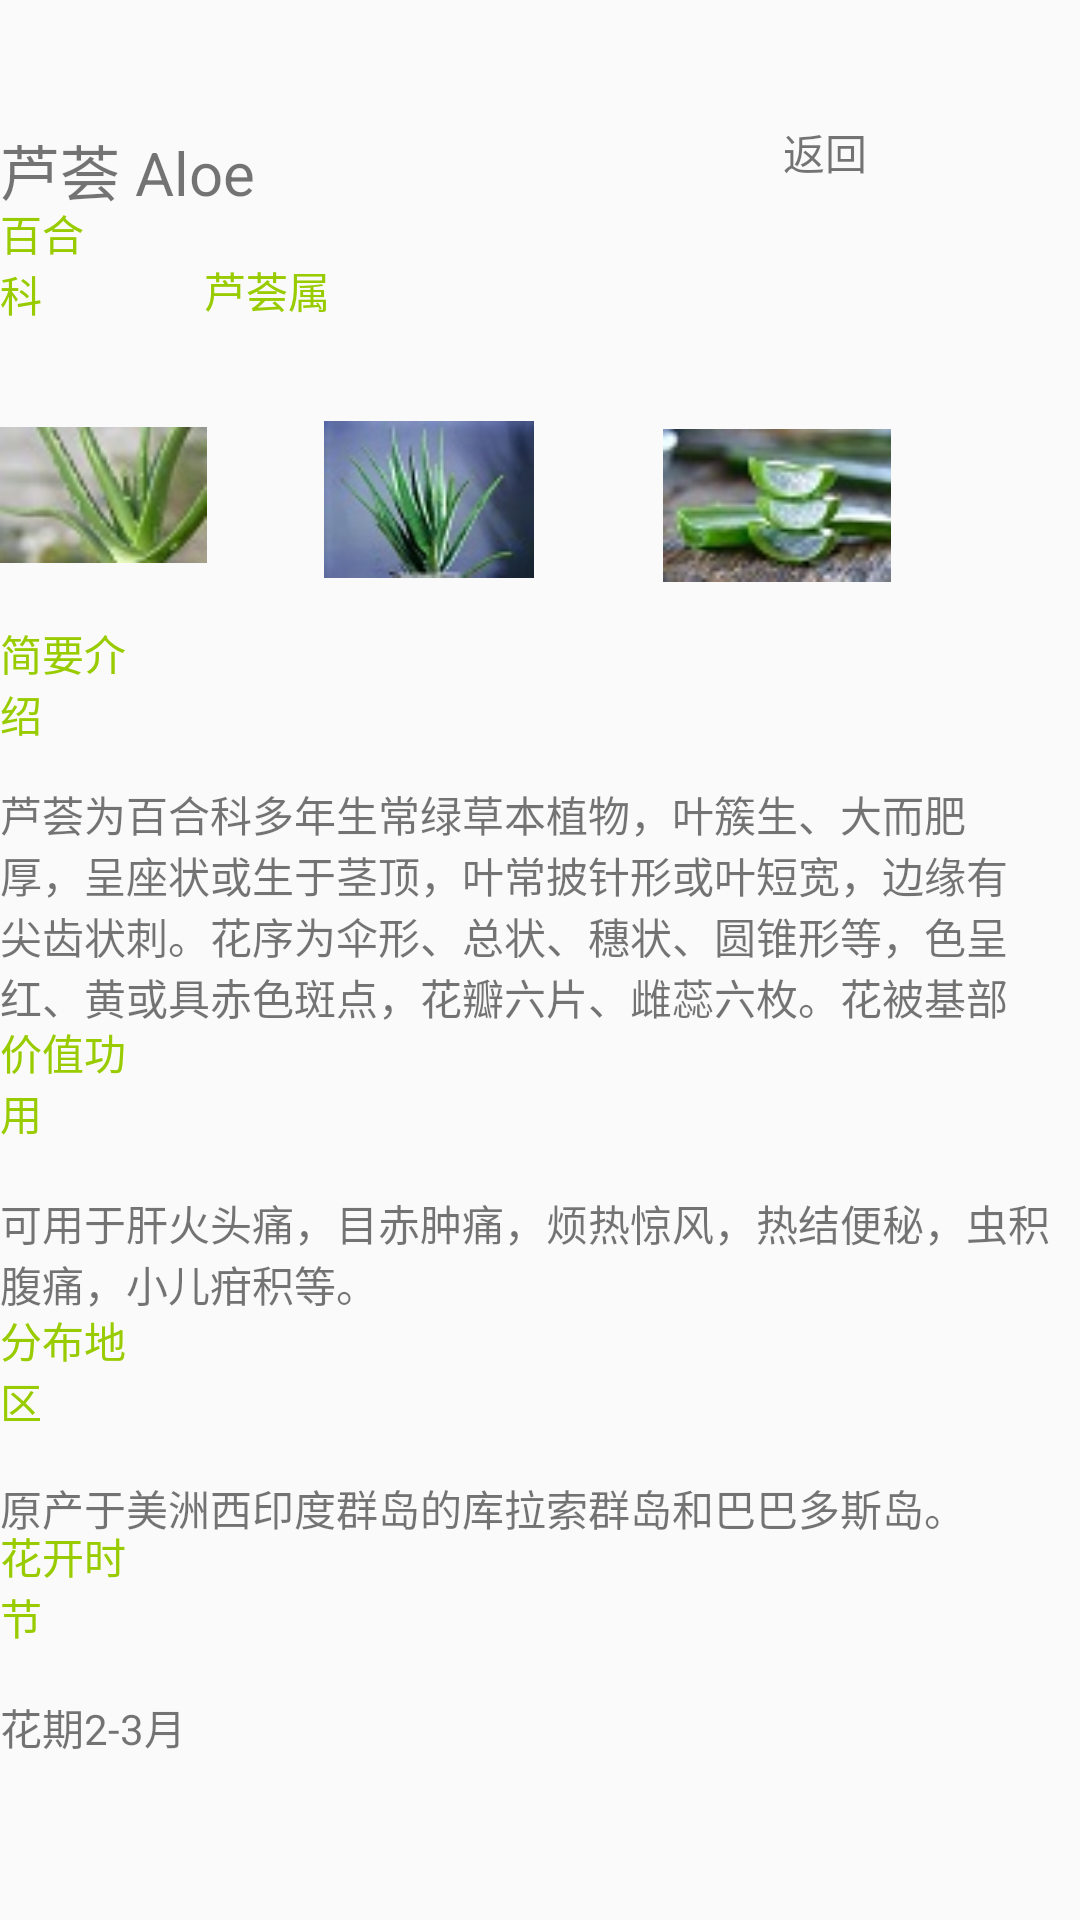

Screen size 1080×1920. Icon name, then its center in pixels as (x=x, y=y):
luhui: (x=429, y=499), (x=103, y=539), (x=777, y=505)
